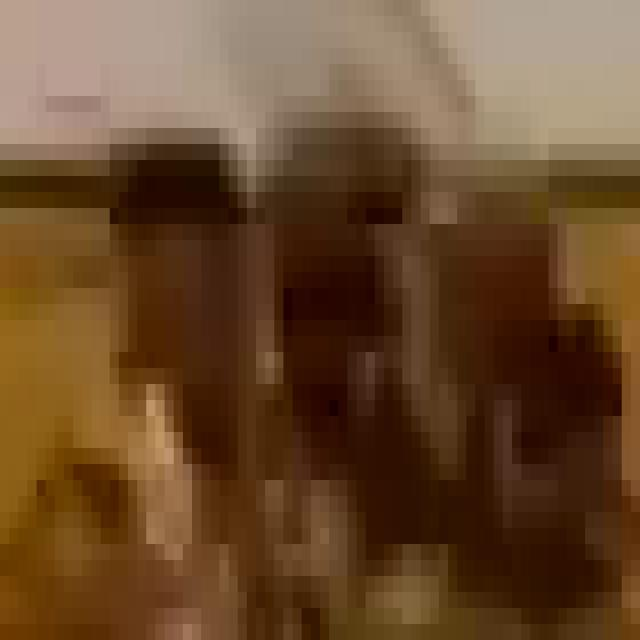honeybee: (91, 80, 631, 640)
